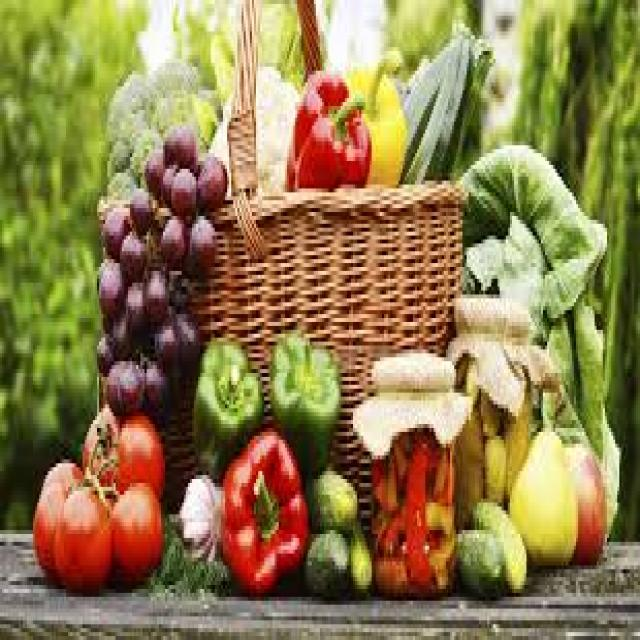organic waste: (456, 138, 607, 314), (539, 290, 617, 550), (103, 55, 221, 192), (216, 420, 308, 585), (402, 16, 492, 172), (205, 59, 302, 192), (207, 0, 324, 106), (283, 67, 369, 188), (268, 322, 338, 467), (506, 420, 576, 562), (190, 330, 260, 471), (78, 401, 161, 498), (351, 43, 407, 185), (52, 479, 110, 589), (31, 452, 80, 577), (562, 432, 607, 561), (107, 479, 161, 581), (471, 495, 526, 593), (159, 514, 223, 593), (173, 468, 221, 570), (402, 432, 432, 581), (304, 463, 357, 534), (456, 526, 506, 601), (299, 522, 347, 589), (454, 412, 479, 518), (104, 350, 142, 412), (148, 302, 180, 365), (346, 526, 372, 601), (192, 153, 227, 208), (95, 255, 124, 318), (142, 350, 168, 420), (481, 428, 504, 506), (183, 212, 214, 267), (349, 530, 374, 597), (122, 275, 146, 341), (161, 118, 196, 161), (115, 228, 146, 275), (174, 306, 198, 365), (128, 180, 155, 232), (157, 212, 184, 263), (376, 550, 409, 589), (506, 416, 524, 487), (169, 165, 196, 212), (101, 204, 128, 251), (423, 495, 452, 538), (145, 263, 165, 318), (378, 506, 400, 554), (93, 330, 120, 369), (430, 534, 452, 581), (374, 471, 398, 511), (103, 310, 128, 346), (159, 157, 178, 204), (145, 149, 163, 189), (433, 440, 446, 494), (390, 436, 405, 479)
